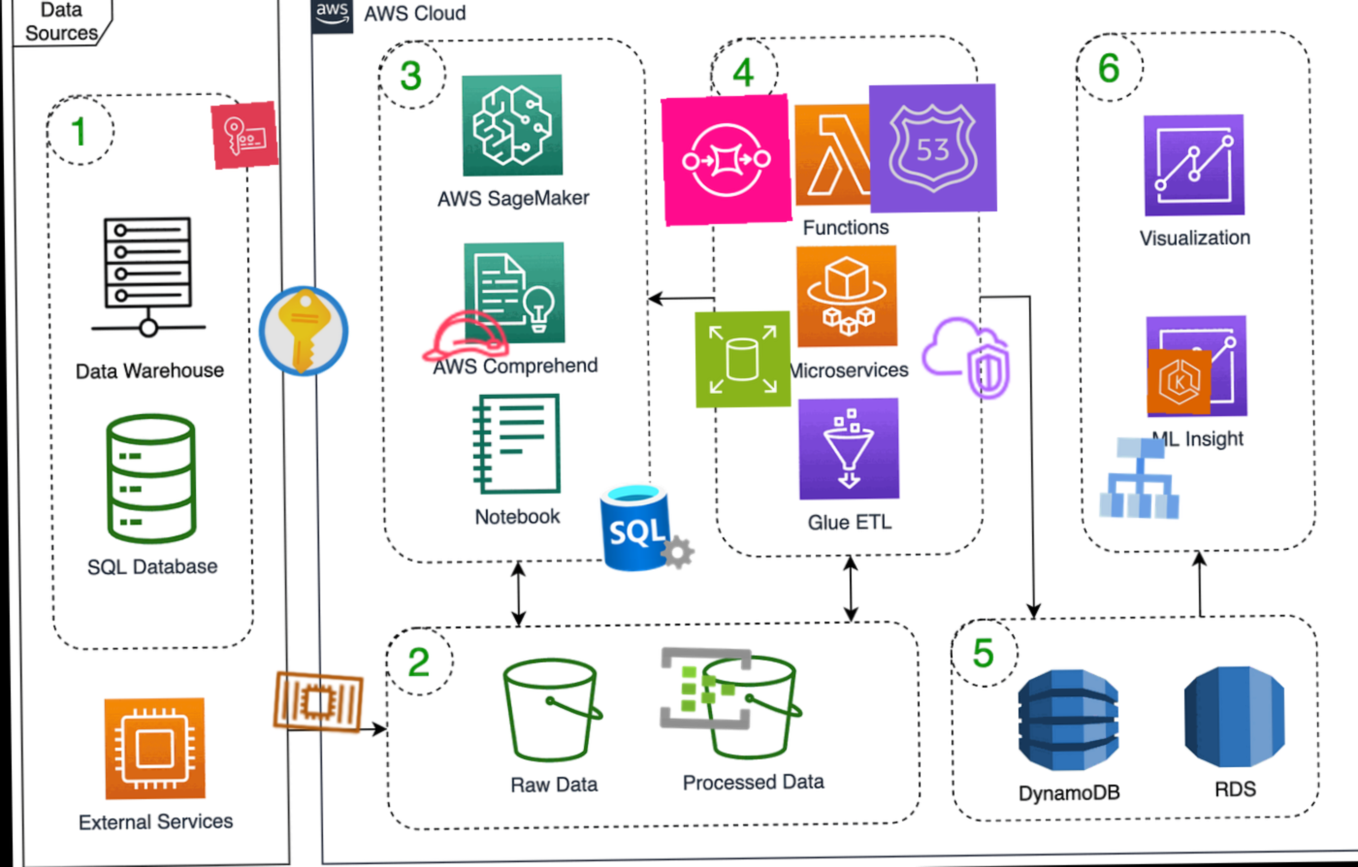aws_amazon_elastic_block_store: (694, 309, 792, 408)
aws_amazon_elastic_kubernetes_service: (1145, 347, 1212, 415)
aws_amazon_route_53: (867, 82, 998, 213)
aws_amazon_simple_queue_service: (660, 93, 792, 226)
aws_elastic_container_service_container_2: (266, 649, 370, 755)
aws_identity_access_management_role: (415, 286, 513, 385)
aws_key_management_service: (210, 101, 278, 169)
aws_vpc_virtual_private_cloud_vpc: (915, 307, 1015, 408)
azure_event_hubs: (655, 637, 756, 738)
azure_key_vaults: (251, 278, 355, 383)
azure_sql_server: (596, 474, 697, 577)
gcp_cloud_load_balancing: (1089, 427, 1189, 528)
